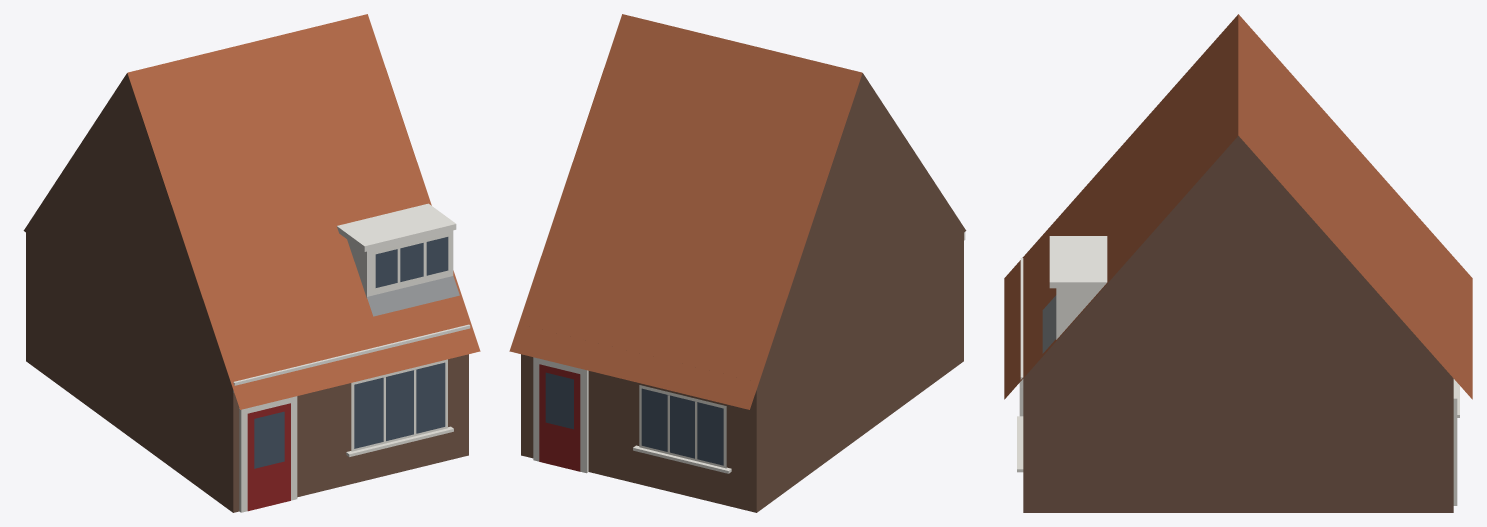
File: nd-to-cottage__red-door__2__gable__long__solid__f0d1.glb
The picture shows the model from 3 angles, left to right: view 1: azimuth 30°, elevation 25°; view 2: azimuth 150°, elevation 25°; view 3: azimuth 270°, elevation 25°; orthographic projection. The views are drawn at different scales.
Visible parts, largest first — view 1: nd-to-cottage__red-door__2__gable__long__solid__f0d1; view 2: nd-to-cottage__red-door__2__gable__long__solid__f0d1; view 3: nd-to-cottage__red-door__2__gable__long__solid__f0d1.
Part boxes in pixels (left/top/right/bottom): nd-to-cottage__red-door__2__gable__long__solid__f0d1: left=23, top=14, right=480, bottom=512; nd-to-cottage__red-door__2__gable__long__solid__f0d1: left=509, top=14, right=966, bottom=512; nd-to-cottage__red-door__2__gable__long__solid__f0d1: left=1004, top=14, right=1472, bottom=512.
Bounding box in the file's own units: 5.28 × 7.66 × 8.59.
